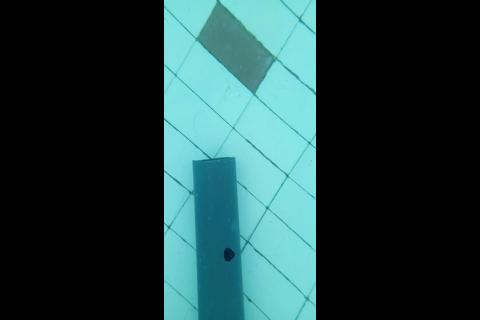kebocoran: (223, 246, 236, 262)
